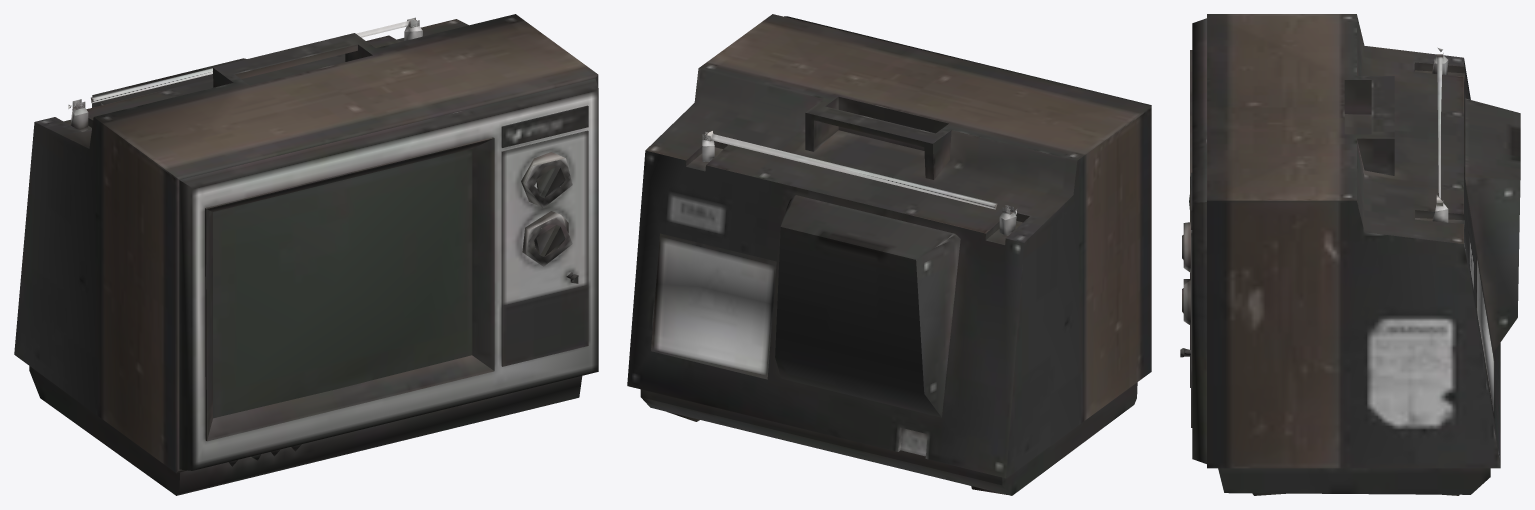
3 views of the same model, side by side, from view 1: azimuth 30°, elevation 25°; view 2: azimuth 150°, elevation 25°; view 3: azimuth 270°, elevation 25° (orthographic). The views are drawn at different scales.
Parts seen in each view (by area): view 1: Television_01; view 2: Television_01; view 3: Television_01.
Boxes of the visible parts, left/top/right/bottom form: Television_01: left=14, top=14, right=598, bottom=495; Television_01: left=627, top=14, right=1151, bottom=495; Television_01: left=1180, top=14, right=1520, bottom=495.
Size of the model in its own units: 0.6 by 0.4569 by 0.4624.
Materials: 1 (1 with a texture image).
